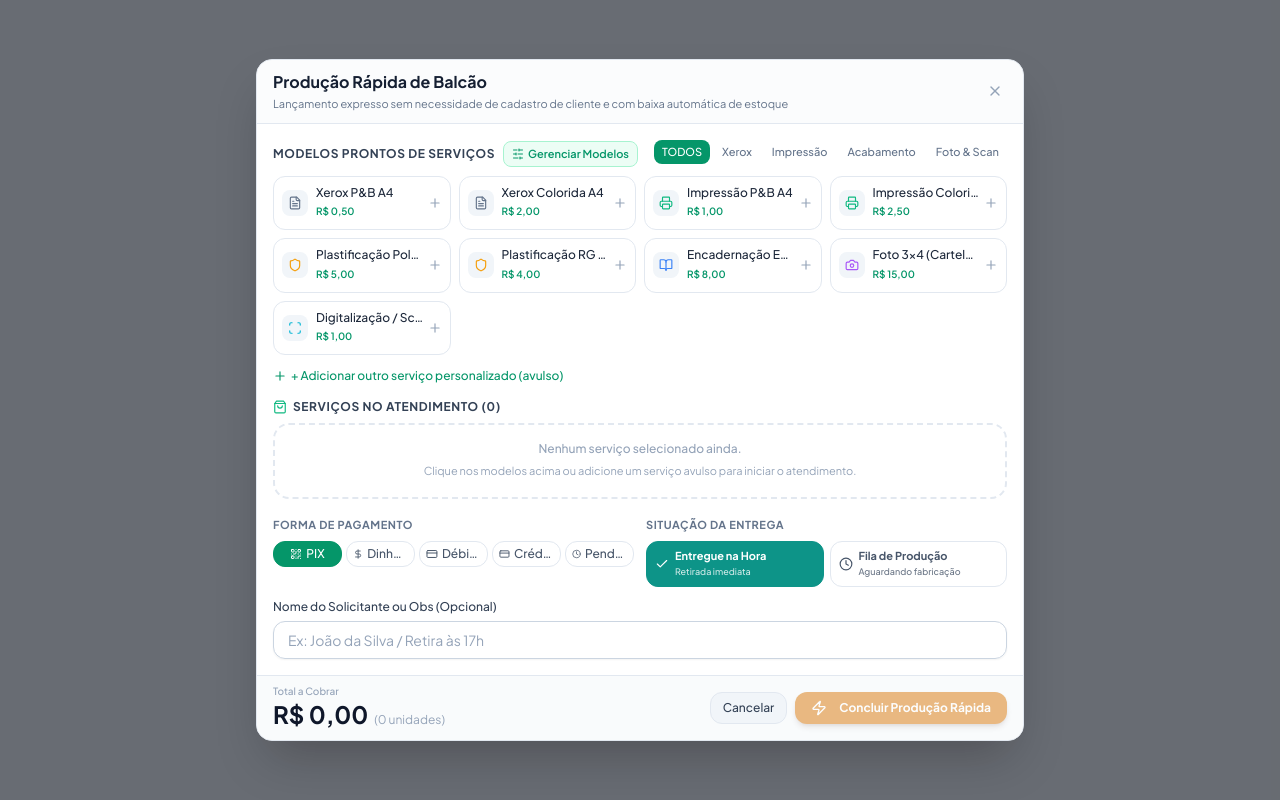
Test: QuickProductionModal › allows adding a custom service and removing items
Click the button "+ Adicionar outro serviço personalizado (avulso)" at (418, 376), box [273,368,563,384]
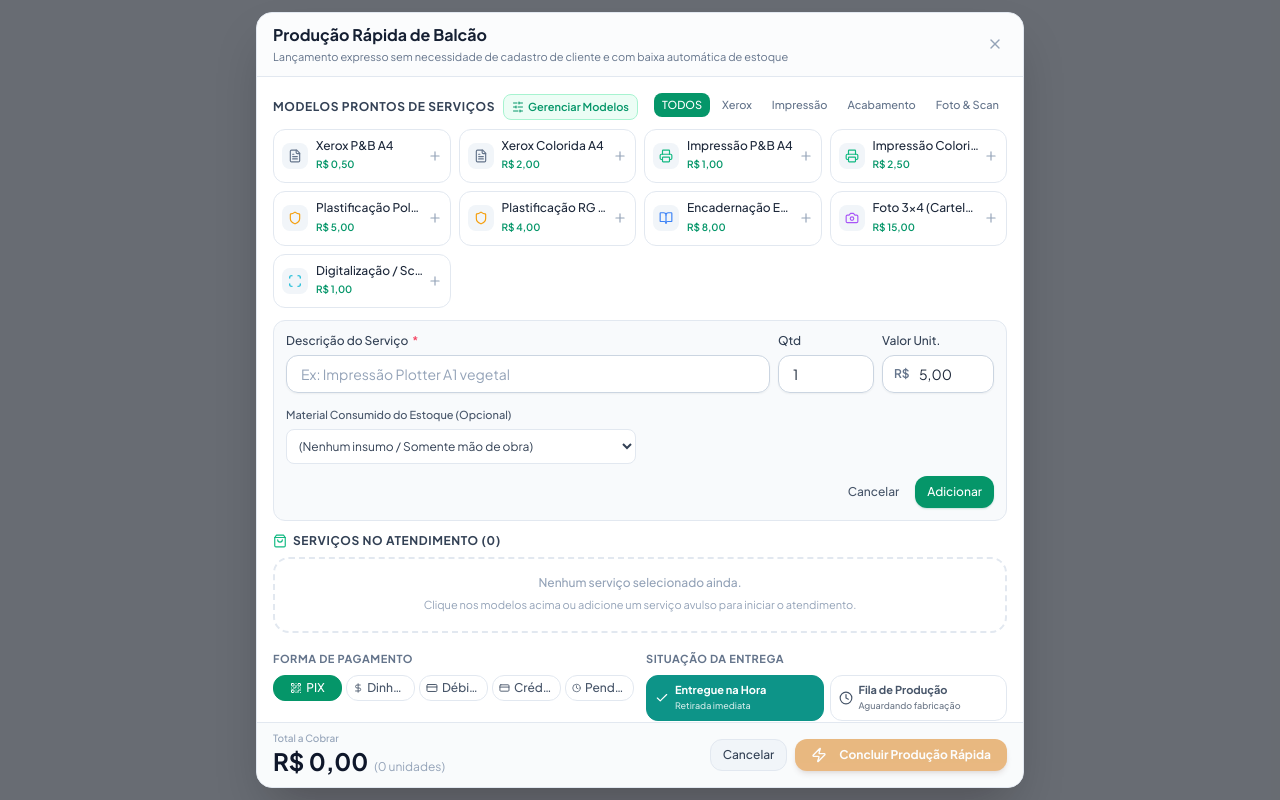
Type "Plotagem A1 Vegetal" into the field labelled "Descrição do Serviço*" at (528, 374), box [286,355,770,393]
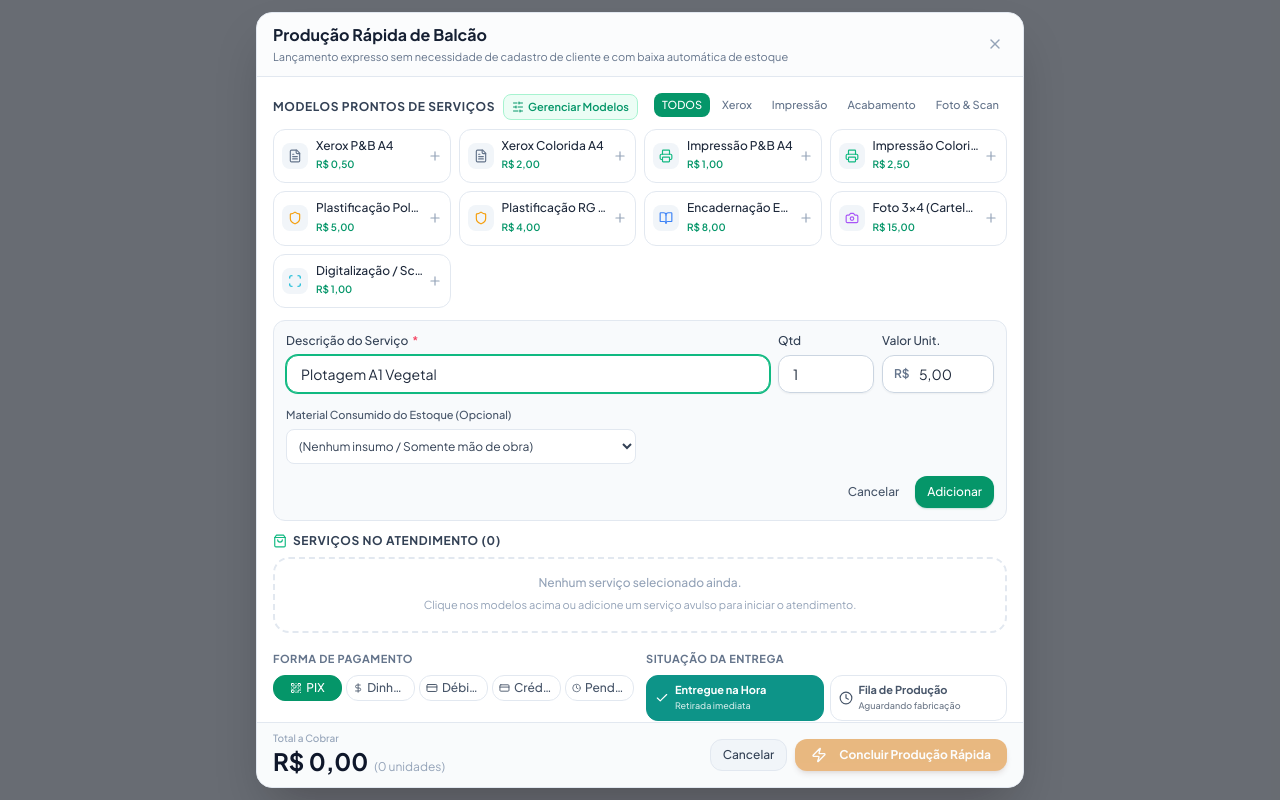
Click the button "Adicionar" at (955, 492), box [915,476,994,508]
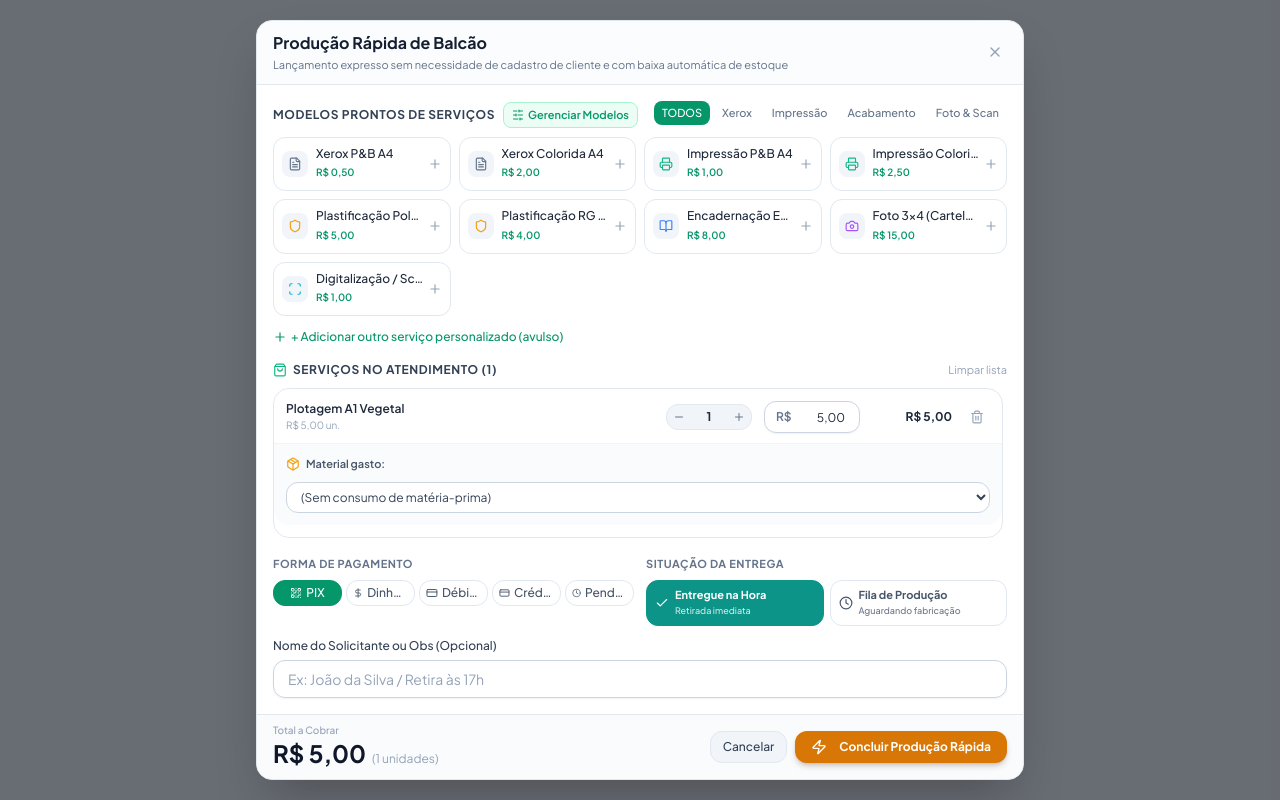
Expected: the text "Plotagem A1 Vegetal" is shown, [286,401,404,416]
Note: Remove the item
Click the button named "remover plotagem a1 vegetal" at (977, 417), box [964,404,990,430]
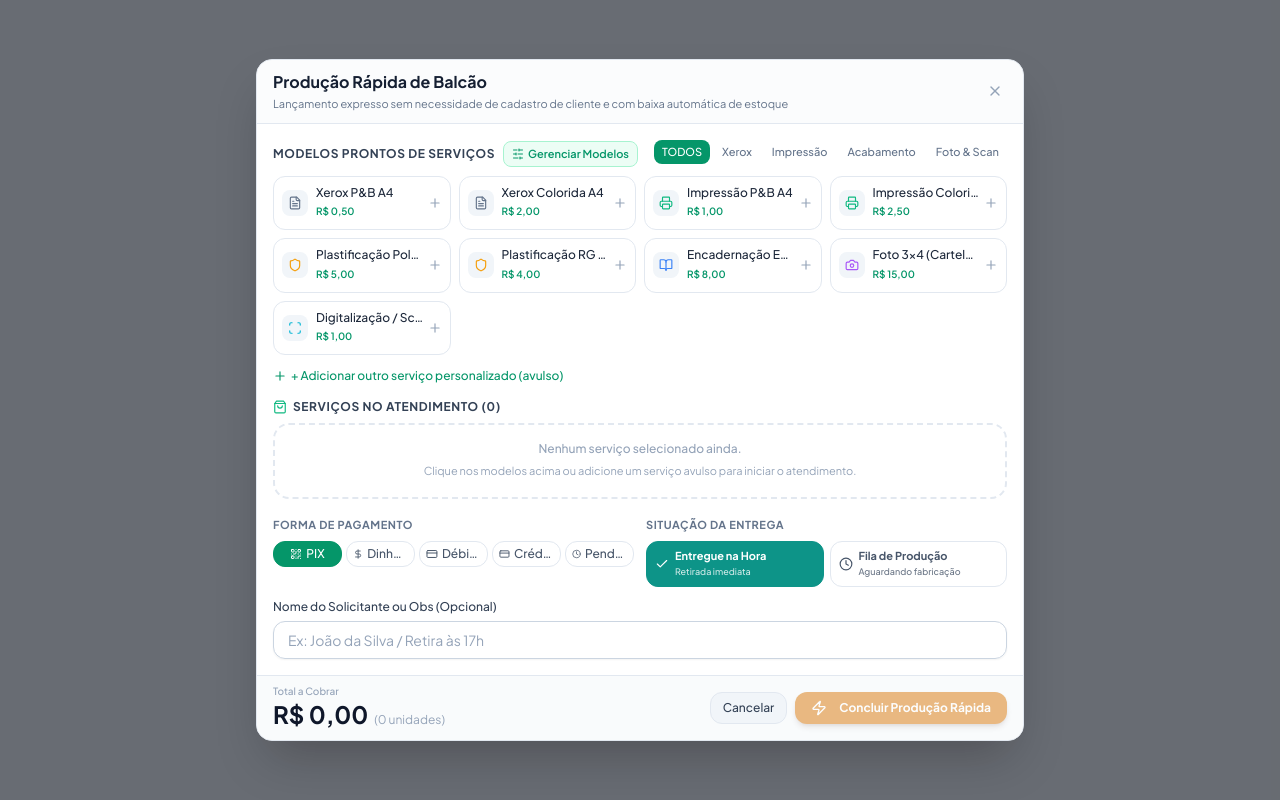
Expected: the text "Plotagem A1 Vegetal" is gone
Expected: the text "Nenhum serviço selecionado ainda." is shown, [538,441,742,456]
